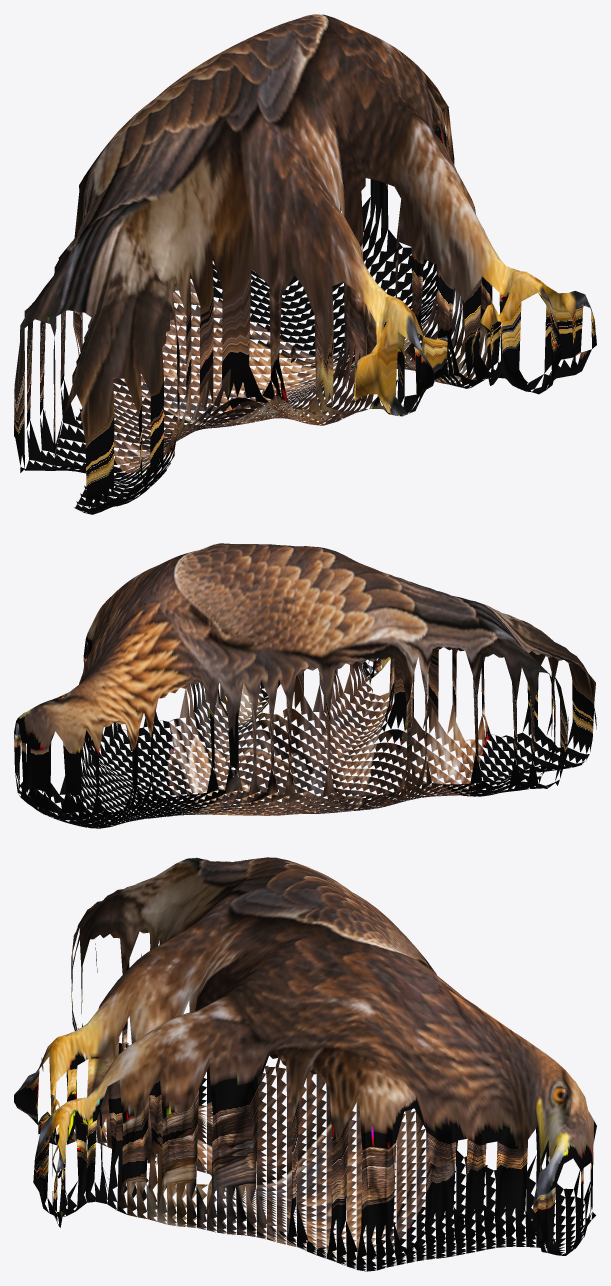
Rendered from eagle.glb.
3 renders of one model, top to bottom at view 1: azimuth 30°, elevation 25°; view 2: azimuth 150°, elevation 25°; view 3: azimuth 270°, elevation 25°, orthographic. The views are drawn at different scales.
Parts seen in each view (by area): view 1: eagle_obj; view 2: eagle_obj; view 3: eagle_obj.
Boxes of the visible parts, x1,y1,x2,y2 form: eagle_obj: [14, 14, 596, 514]; eagle_obj: [14, 543, 596, 828]; eagle_obj: [14, 857, 596, 1271].
Bounding box in the file's own units: 1.24 × 0.7847 × 1.22.
Materials: 1 (1 with a texture image).
